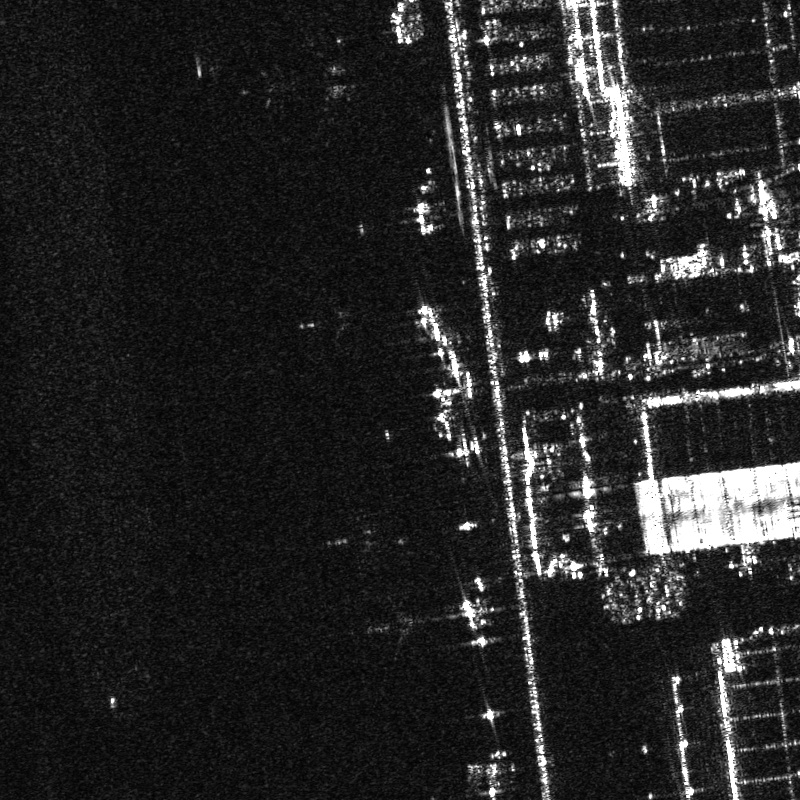A220: (363, 589, 429, 662)
Boeing787: (256, 29, 360, 140), (292, 288, 362, 347)
